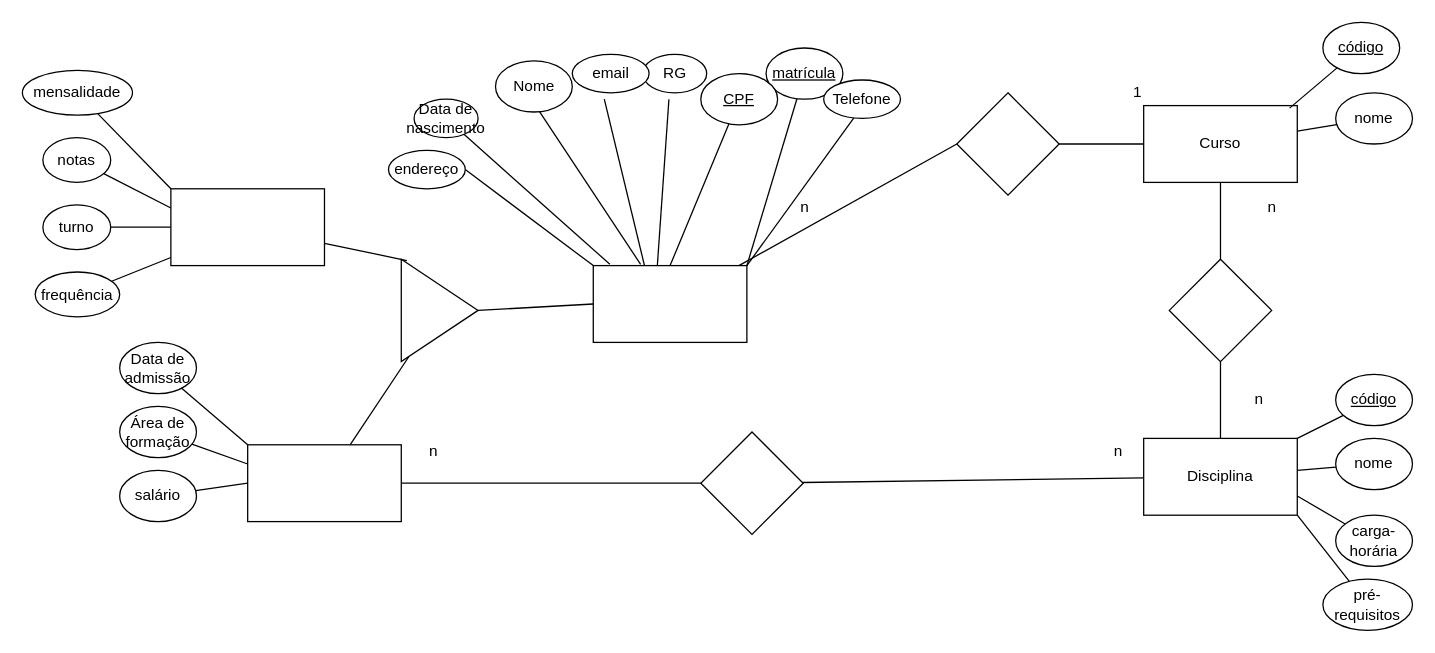
The diagram is 1435 pixels wide and 653 high, and some of its shapes have lost their labels. The shapes that lost their labels are listed below. From the top down, each one's box as (x1, y1, x2, y2) in pixels, then its label:
(956, 92, 1059, 195): Cursa
(170, 188, 324, 266): Aluno
(592, 264, 747, 342): Pessoa
(1168, 258, 1272, 362): Tem
(246, 444, 401, 522): Professor
(700, 431, 803, 534): Ministra
